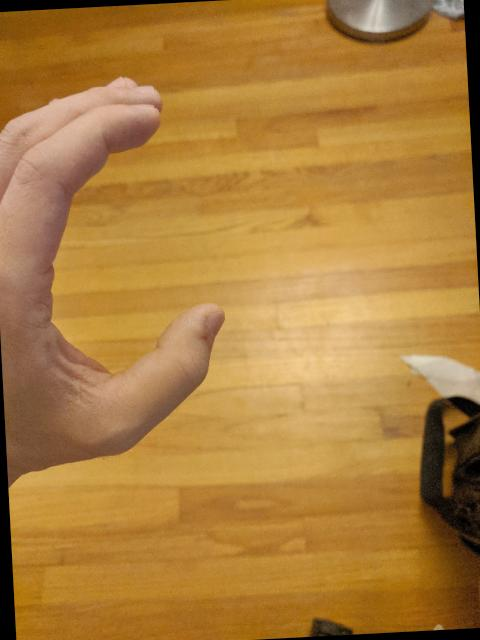C: (0, 66, 241, 484)
